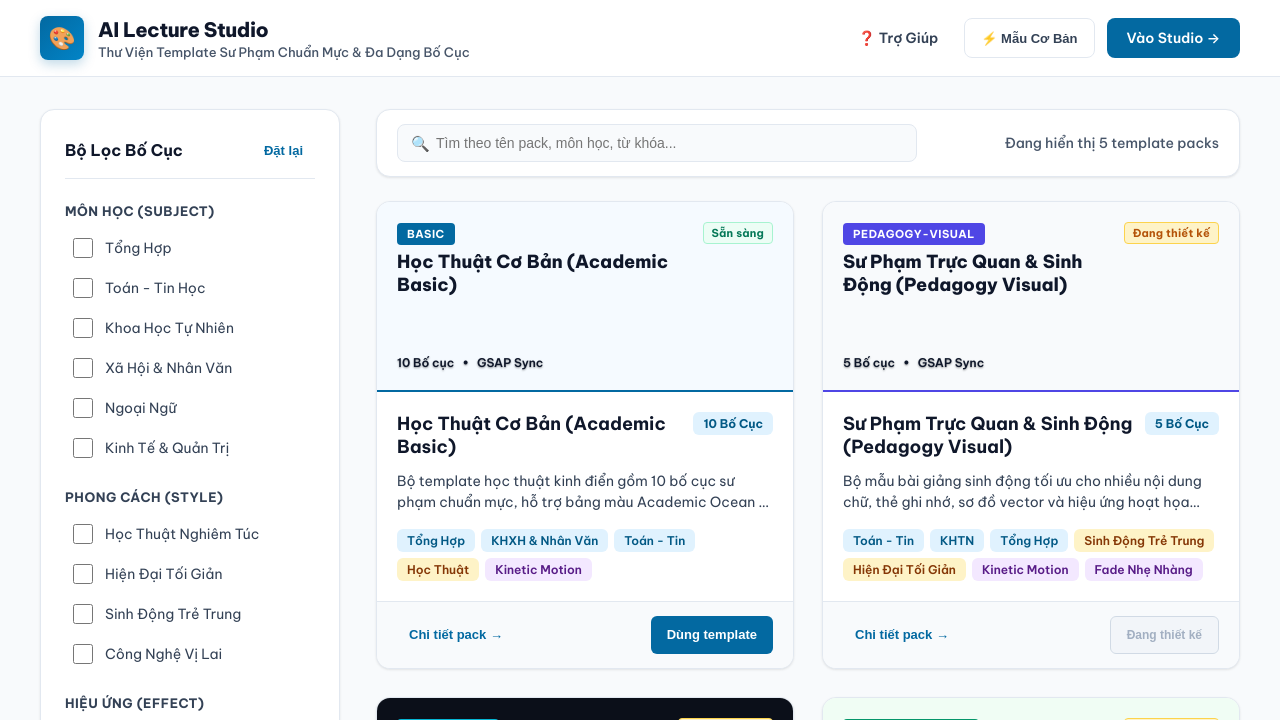
Scenario: Gallery Component & Logic Tests › GalleryPage rendering and user interactions › opens detail drawer when clicking a card and closes it with close button
The image size is (1280, 720).
// Click on the first pack card
Click the text "Học Thuật Cơ Bản (Academic Basic)" at (546, 274), box x1=397 y1=251 x2=695 y2=296
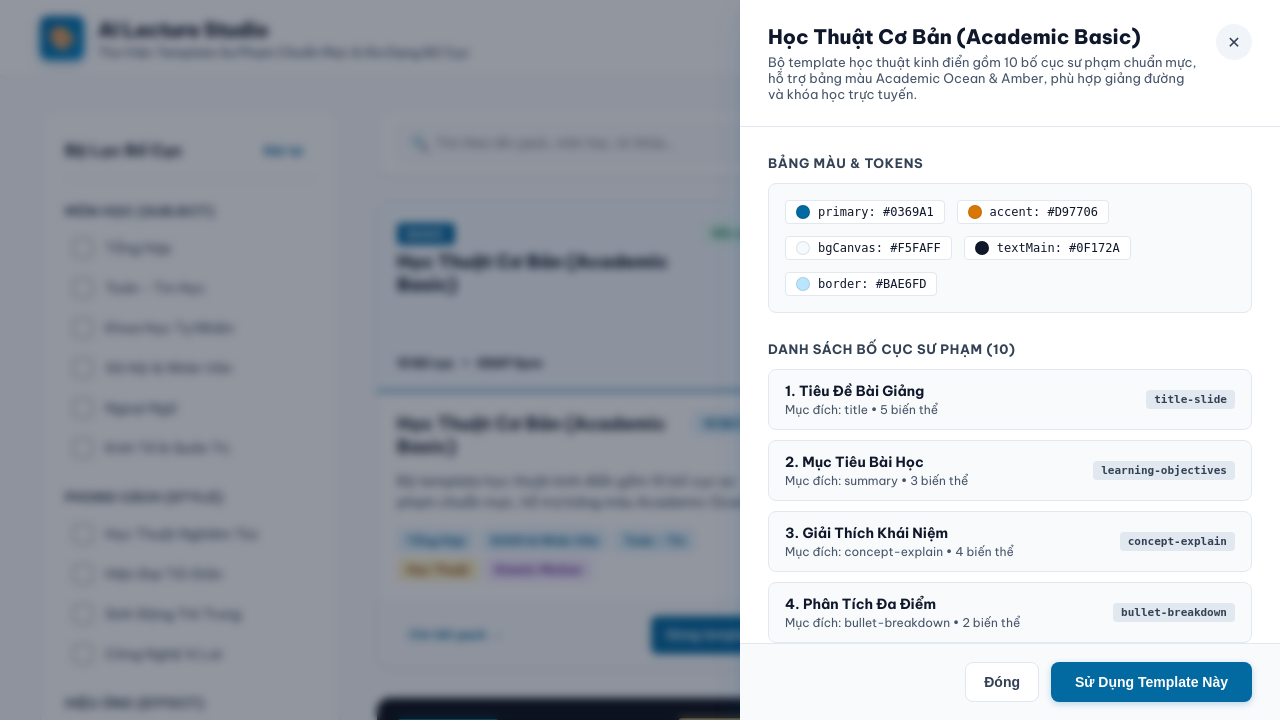
Expected: the text "Bảng Màu & Tokens" is shown, x1=768 y1=155 x2=923 y2=171
Expected: the text "Danh Sách Bố Cục Sư Phạm (10)" is shown, x1=768 y1=341 x2=1016 y2=357
// Close drawer
Click the button named "Đóng chi tiết" at (1234, 42), box x1=1216 y1=24 x2=1252 y2=60
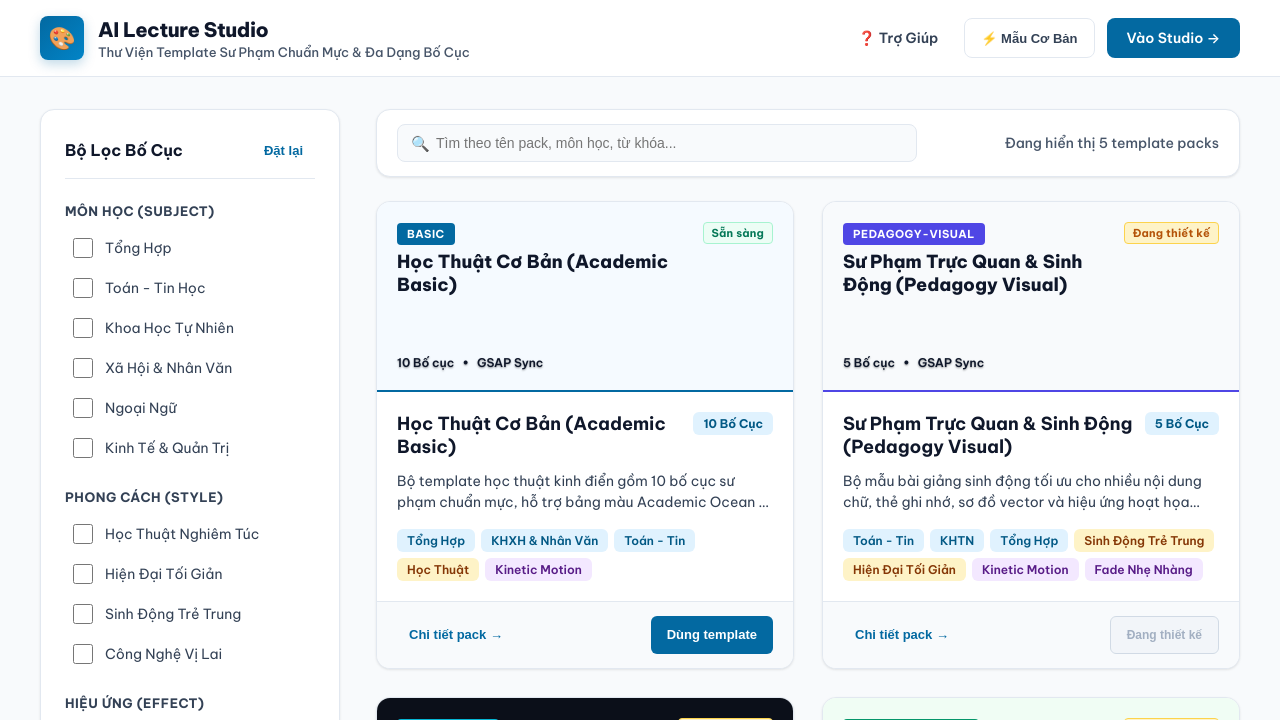
Expected: the text "Bảng Màu & Tokens" is gone
